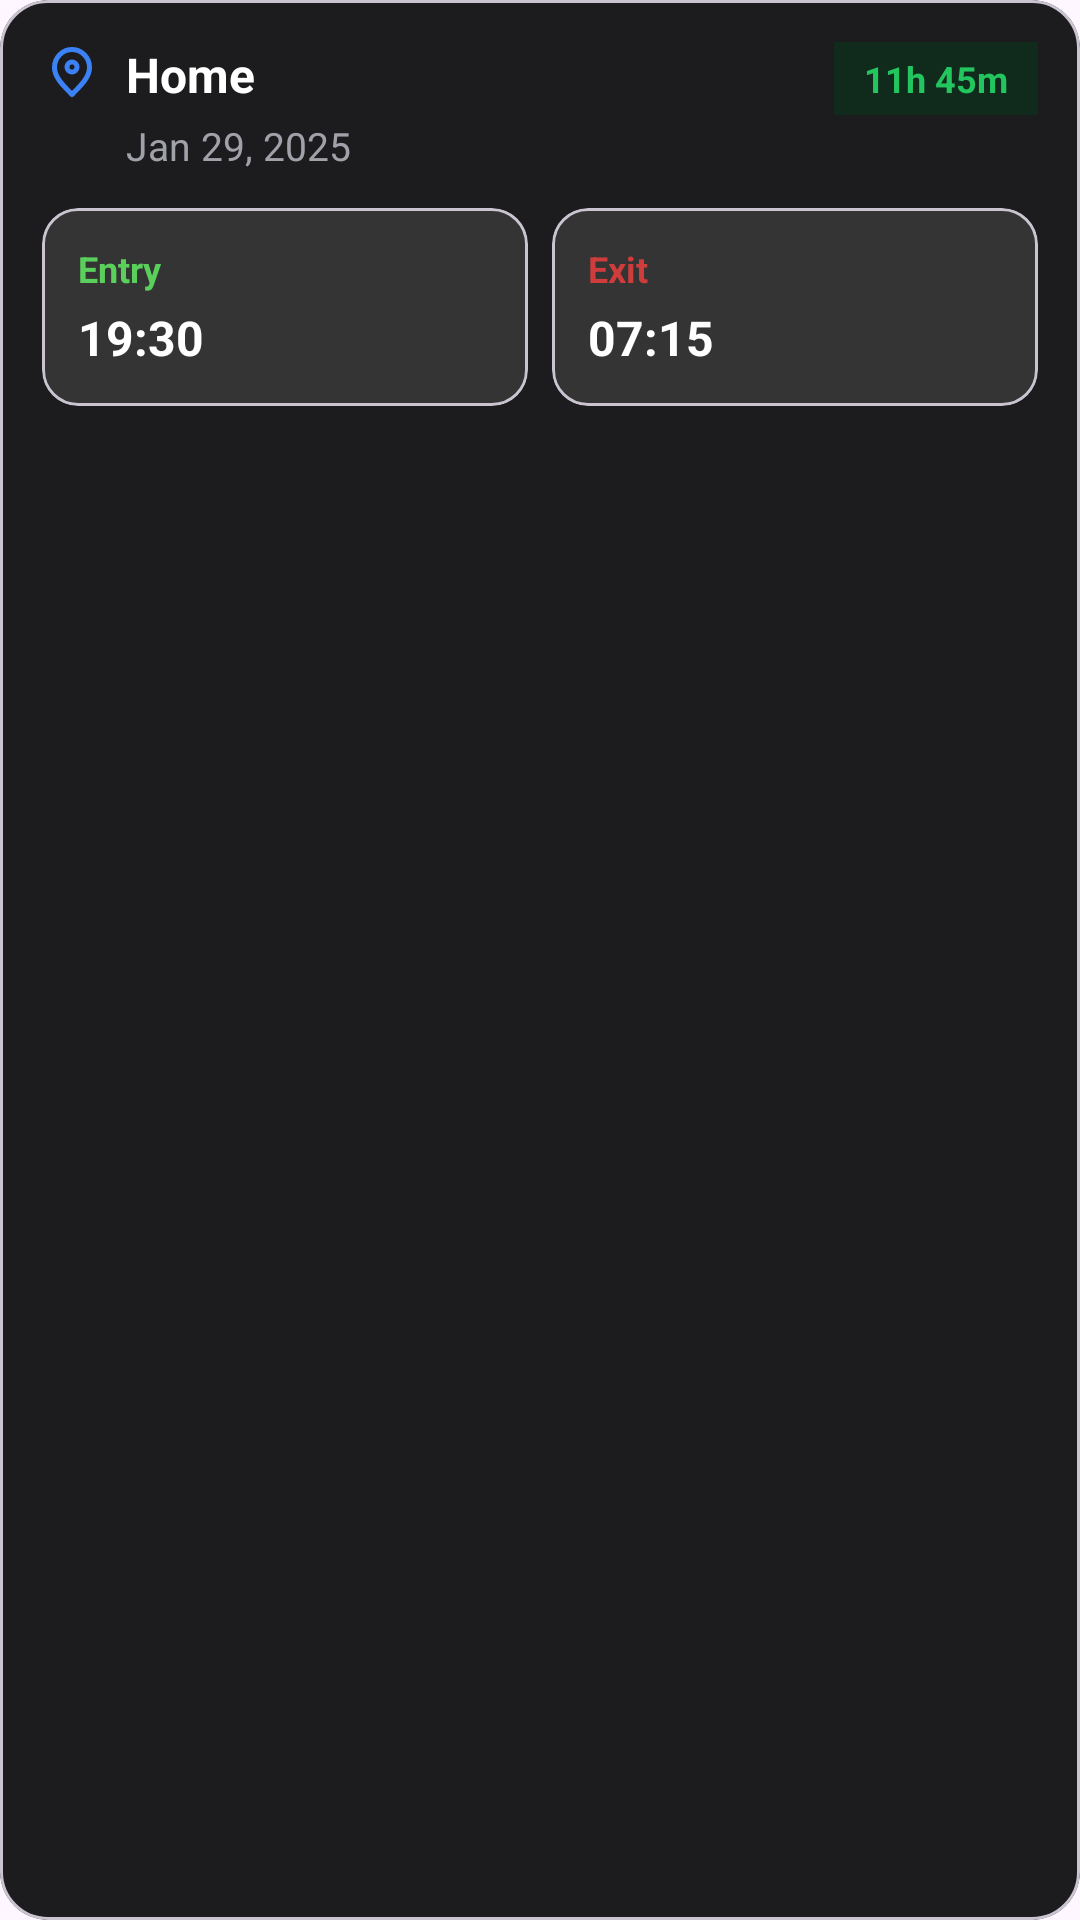

Named icons in this screenshot (1080w x 1920h) and their centers, (x=x, y=y):
location: (x=72, y=72)
